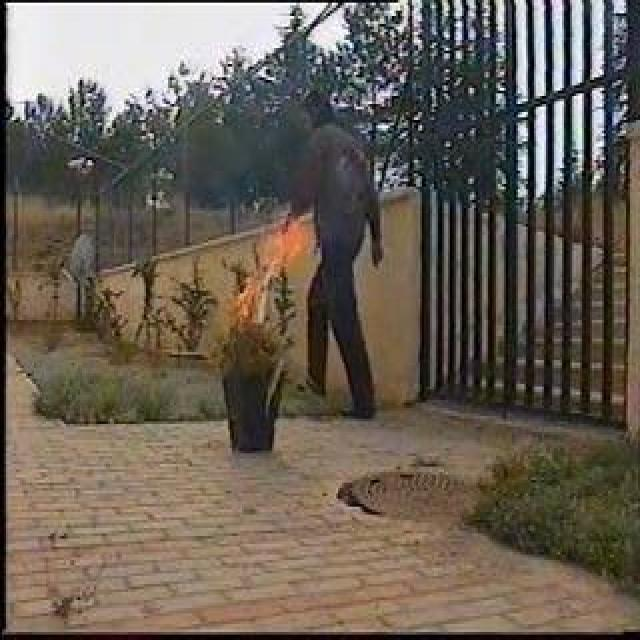Fire: (226, 225, 306, 343)
